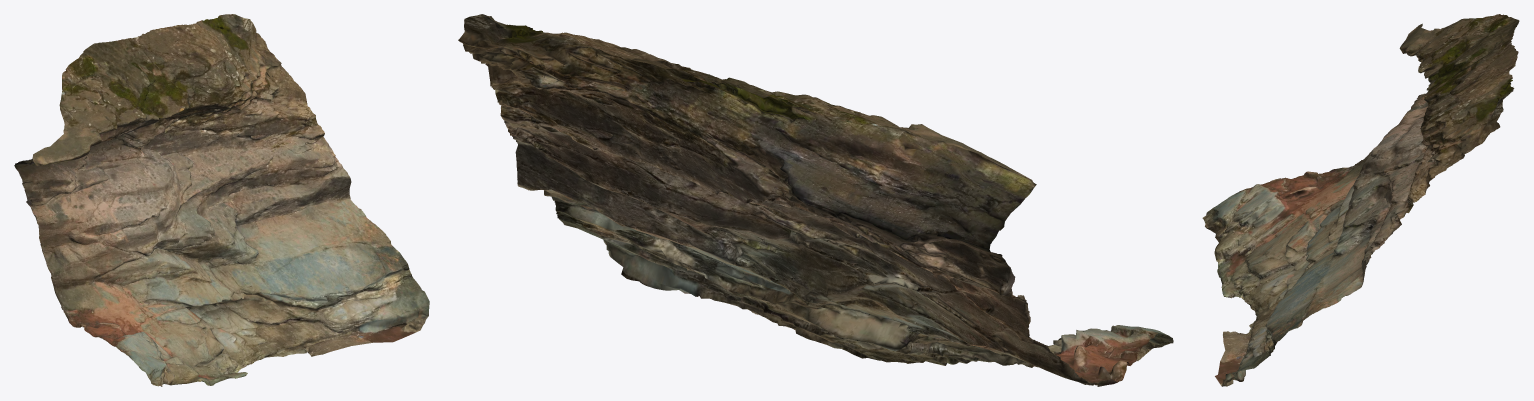
File: rock_face_01.glb
The picture shows the model from 3 angles, left to right: view 1: azimuth 30°, elevation 25°; view 2: azimuth 150°, elevation 25°; view 3: azimuth 270°, elevation 25°; orthographic projection. The views are drawn at different scales.
Visible parts, largest first — view 1: rock_face_01; view 2: rock_face_01; view 3: rock_face_01.
Part boxes in pixels (x1,y1,x2,y2): rock_face_01: (14, 14, 429, 386); rock_face_01: (458, 14, 1173, 386); rock_face_01: (1202, 14, 1519, 386).
Size of the model in its own units: 4.95 by 3.56 by 3.83.
1 material, 1 textured.
